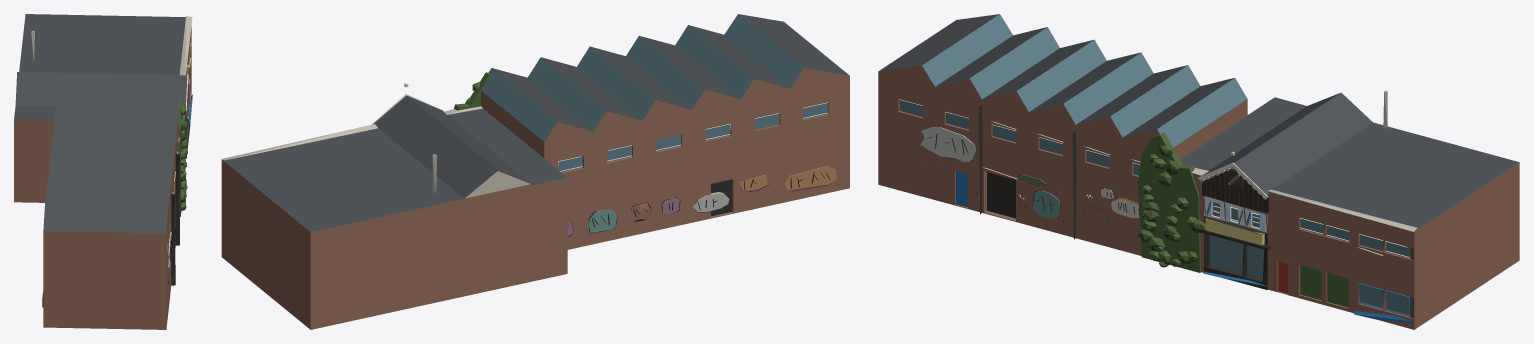
Rendered from skatecafe.lod1.glb.
3 renders of one model, left to right at view 1: azimuth 30°, elevation 25°; view 2: azimuth 150°, elevation 25°; view 3: azimuth 270°, elevation 25°, orthographic. The views are drawn at different scales.
Visible parts, largest first — view 1: skatecafe; view 2: skatecafe; view 3: skatecafe.
Part boxes in pixels (box(x1,y1,x2,y2)): skatecafe: box(14, 14, 192, 329); skatecafe: box(221, 14, 849, 329); skatecafe: box(878, 14, 1519, 329).
Size of the model in its own units: 29.66 by 10.15 by 40.8.
